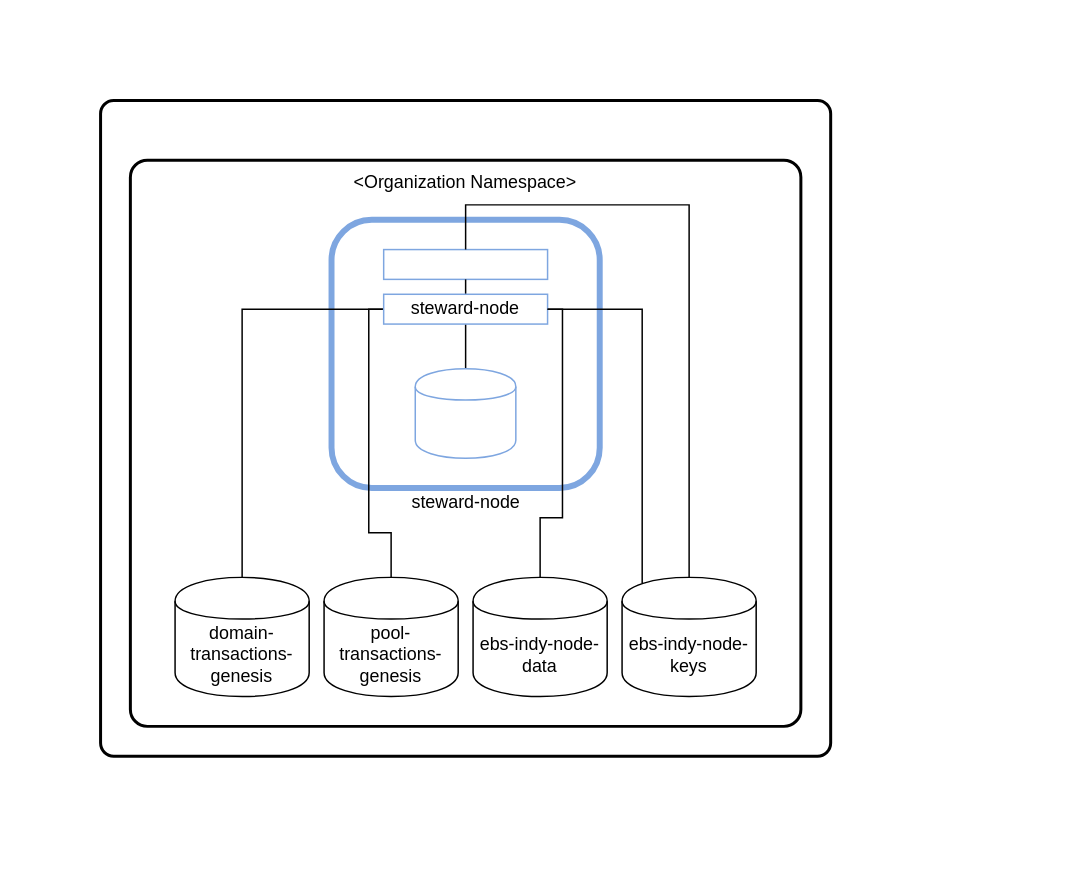
This 1079x870 diagram has some shape labels left out. Here are the shapes that lost their labels. From the top down, the box of each, then its label:
(382, 248, 548, 279): steward-node-init
(98, 98, 831, 757): Kubernetes Cluster
(414, 367, 516, 458): steward-node-config
